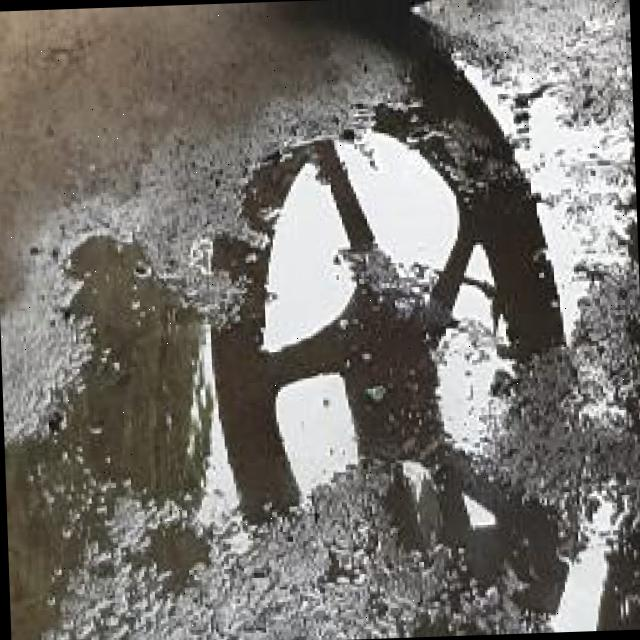waterlogging: (72, 47, 640, 578)
